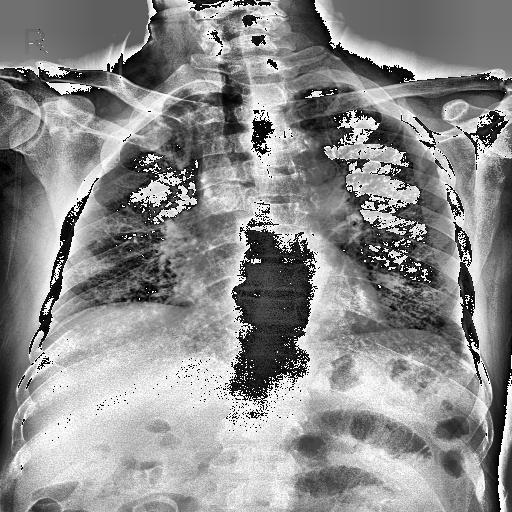0- Aortic enlargement: (238, 132, 346, 236), (259, 128, 342, 210), (280, 130, 348, 205)
13- Pulmonary fibrosis: (132, 83, 212, 167)
5- ILD: (333, 98, 468, 370), (46, 106, 212, 318), (336, 202, 454, 346), (53, 192, 184, 316), (76, 212, 192, 306), (364, 241, 463, 345)
9- Other lesion: (76, 212, 192, 306), (364, 241, 463, 345)
